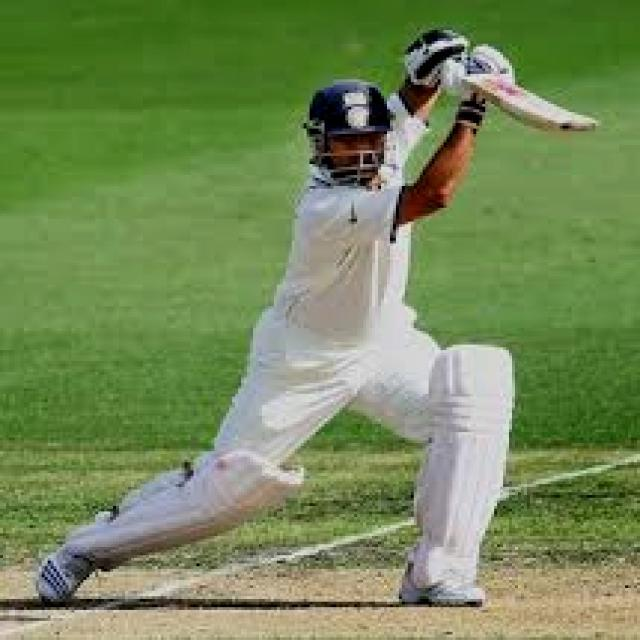bat: (450, 55, 603, 158)
toe: (558, 118, 598, 139)
